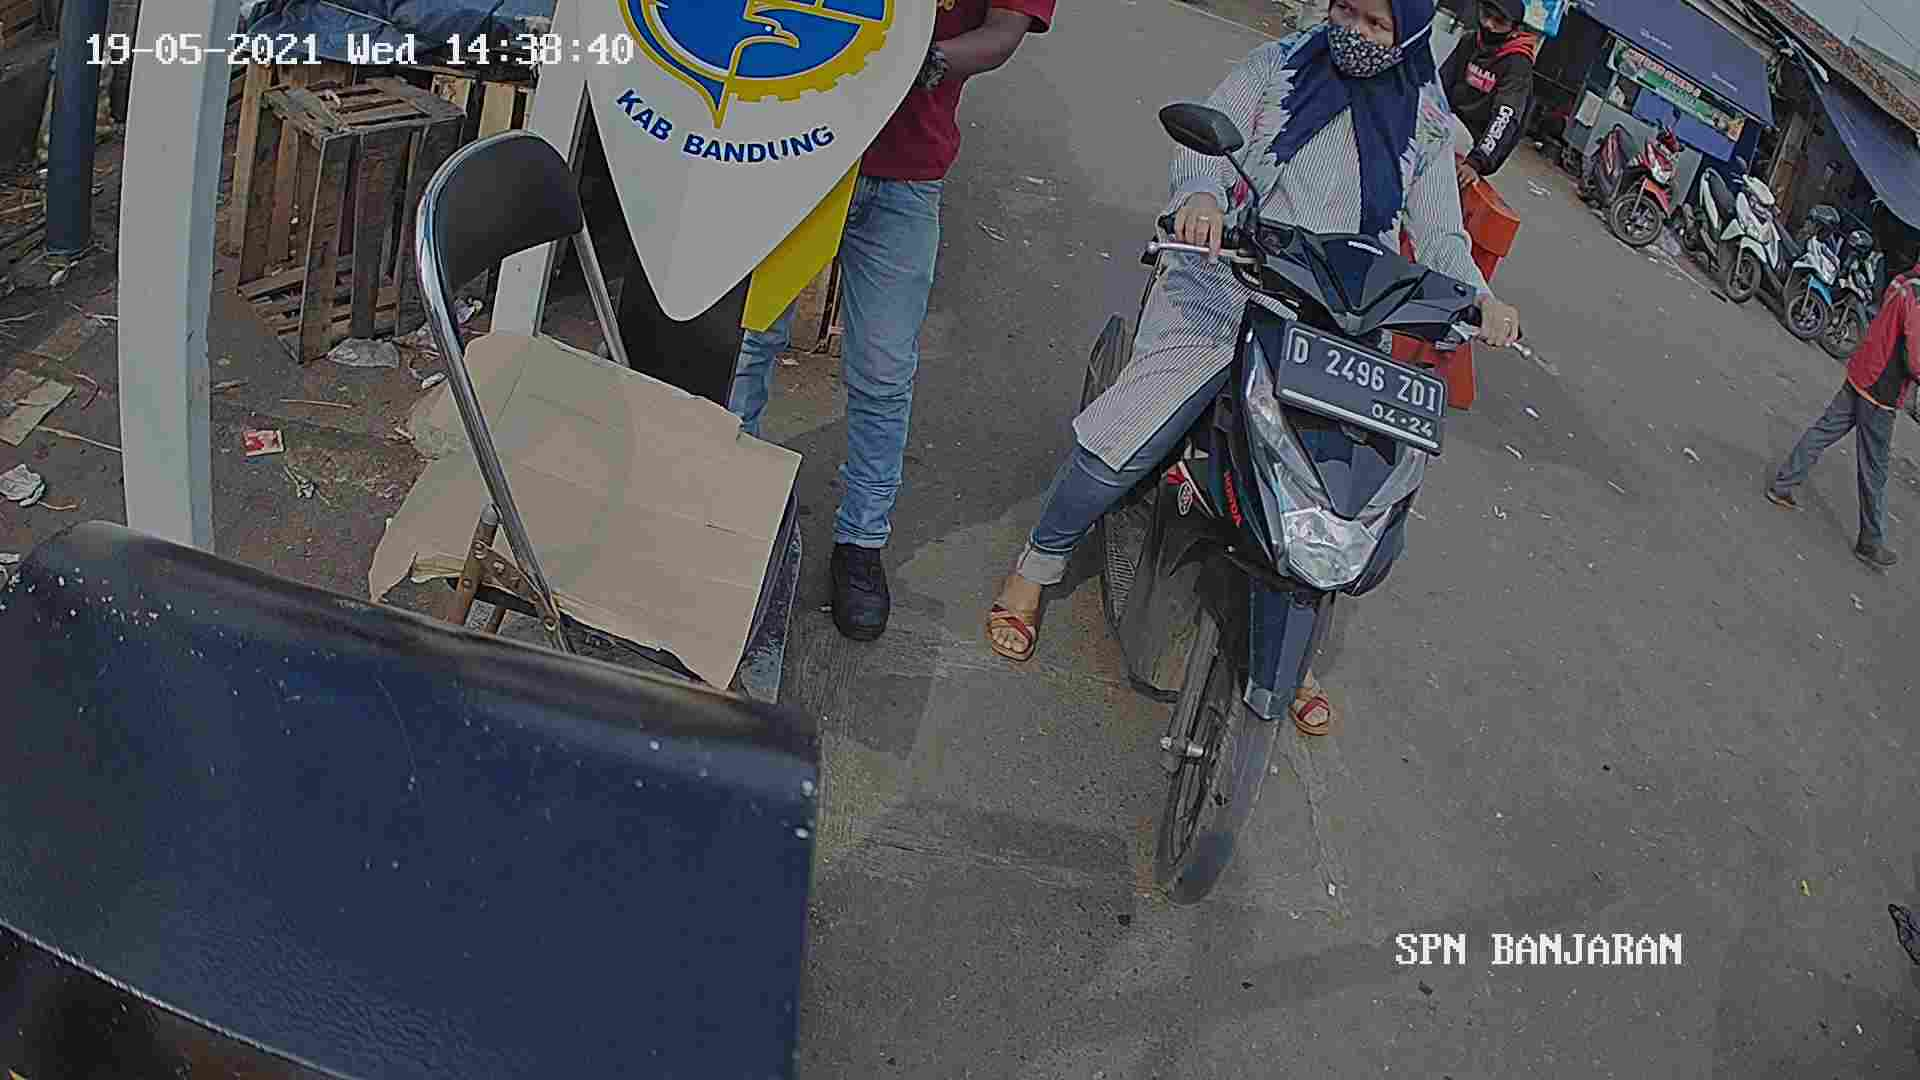motor: (1105, 185, 1464, 938)
